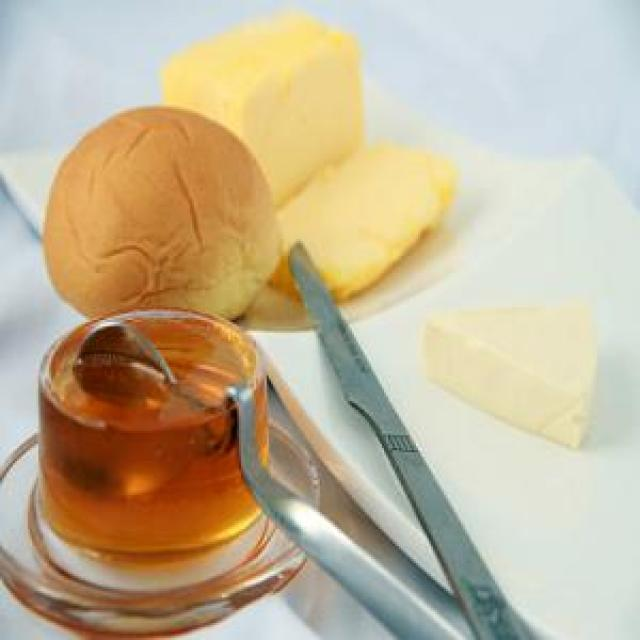knife: (284, 235, 533, 639)
